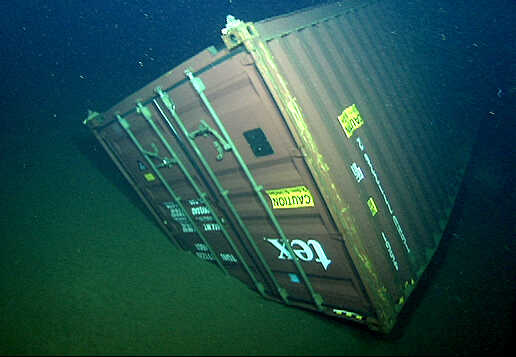Container: (82, 0, 492, 336)
